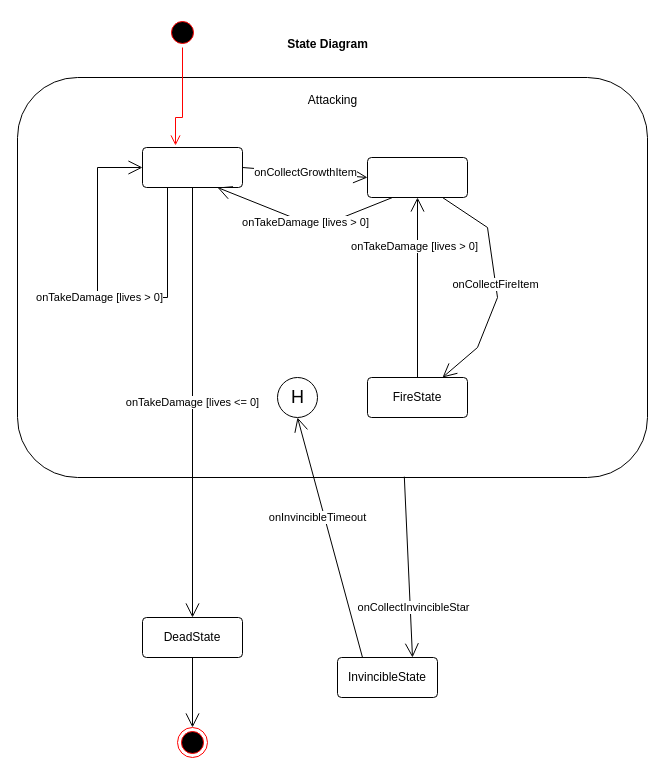
Image size: 665x775. Some labels were removed from this diagram. The shapes that lost their labels are listed below. From the top down, each one's centre as x and y in pixels, then its label:
At [192,167]: "NormalState".
At [417,177]: "BigState".
